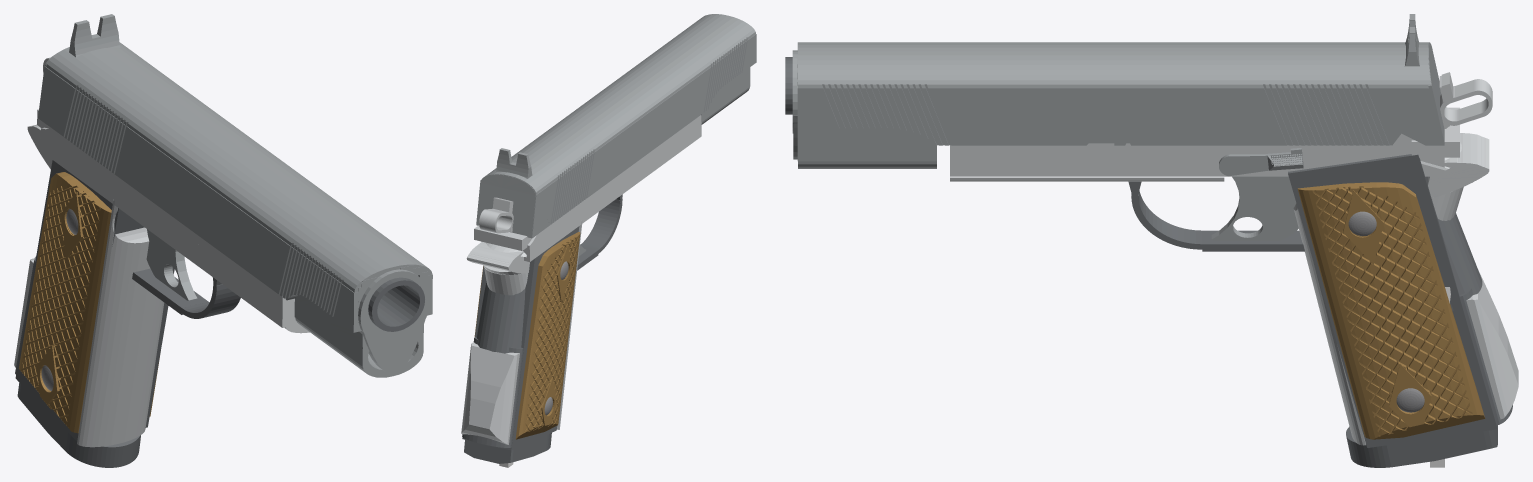
3 renders of one model, left to right at view 1: azimuth 30°, elevation 25°; view 2: azimuth 150°, elevation 25°; view 3: azimuth 270°, elevation 25°, orthographic. The views are drawn at different scales.
Parts seen in each view (by area): view 1: obj_29, obj_0, obj_27, obj_3, obj_28, obj_25, obj_5, obj_15, obj_21, obj_20; view 2: obj_29, obj_27, obj_0, obj_4, obj_23, obj_6, obj_25, obj_3, obj_20, obj_1, obj_15, obj_24; view 3: obj_29, obj_7, obj_0, obj_25, obj_5, obj_4, obj_3, obj_6, obj_16, obj_1, obj_23, obj_20 (+3 smaller).
Boxes of the visible parts, <box> form: obj_29: <box>38,14,432,377</box>; obj_0: <box>37,109,309,447</box>; obj_27: <box>18,172,111,433</box>; obj_3: <box>17,383,140,467</box>; obj_28: <box>368,277,424,331</box>; obj_25: <box>15,160,174,441</box>; obj_5: <box>146,229,197,300</box>; obj_15: <box>36,192,85,409</box>; obj_21: <box>132,268,207,314</box>; obj_20: <box>181,284,240,318</box>; obj_29: <box>476,14,756,238</box>; obj_27: <box>515,232,580,439</box>; obj_0: <box>474,115,701,429</box>; obj_4: <box>461,342,519,444</box>; obj_23: <box>476,282,525,353</box>; obj_6: <box>466,242,529,295</box>; obj_25: <box>462,226,579,450</box>; obj_3: <box>464,433,551,463</box>; obj_20: <box>580,199,622,253</box>; obj_1: <box>479,197,513,233</box>; obj_15: <box>539,244,571,433</box>; obj_24: <box>462,337,523,447</box>; obj_29: <box>792,14,1444,168</box>; obj_7: <box>1297,182,1485,439</box>; obj_0: <box>950,107,1459,445</box>; obj_25: <box>1288,154,1497,447</box>; obj_5: <box>1211,176,1298,240</box>; obj_4: <box>1466,270,1518,419</box>; obj_3: <box>1346,425,1497,467</box>; obj_6: <box>1420,133,1489,220</box>; obj_16: <box>1343,190,1431,433</box>; obj_1: <box>1439,72,1492,128</box>; obj_23: <box>1438,213,1482,310</box>; obj_20: <box>1131,190,1202,249</box>.
Bounding box in the file's own units: 1500 × 6500 × 9785.
